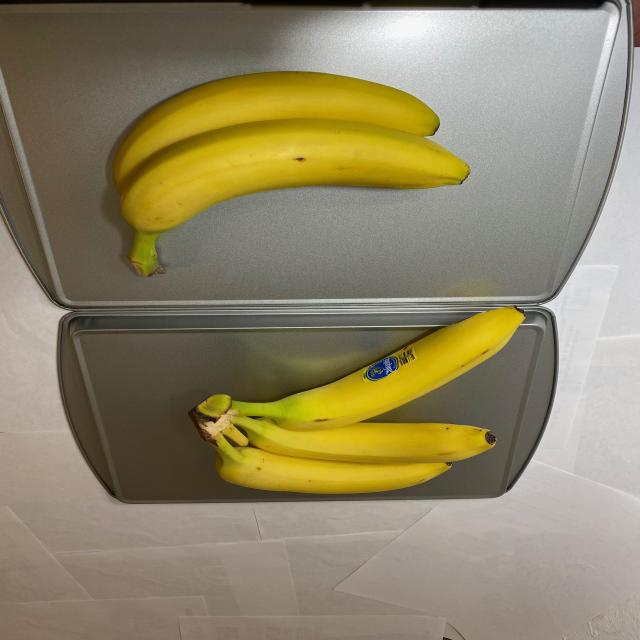banana: (102, 69, 480, 281), (185, 302, 534, 494)
